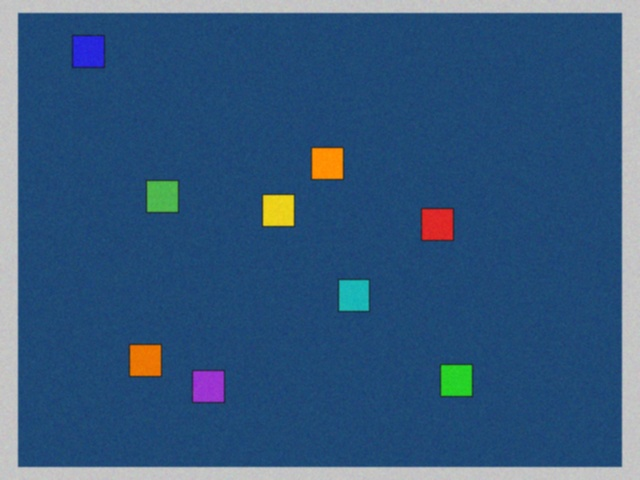block: (73, 36, 116, 77), (434, 358, 473, 397), (130, 339, 170, 376), (192, 363, 229, 403), (147, 180, 186, 214), (416, 209, 453, 241), (311, 147, 343, 183), (337, 278, 370, 312), (263, 194, 296, 227)
